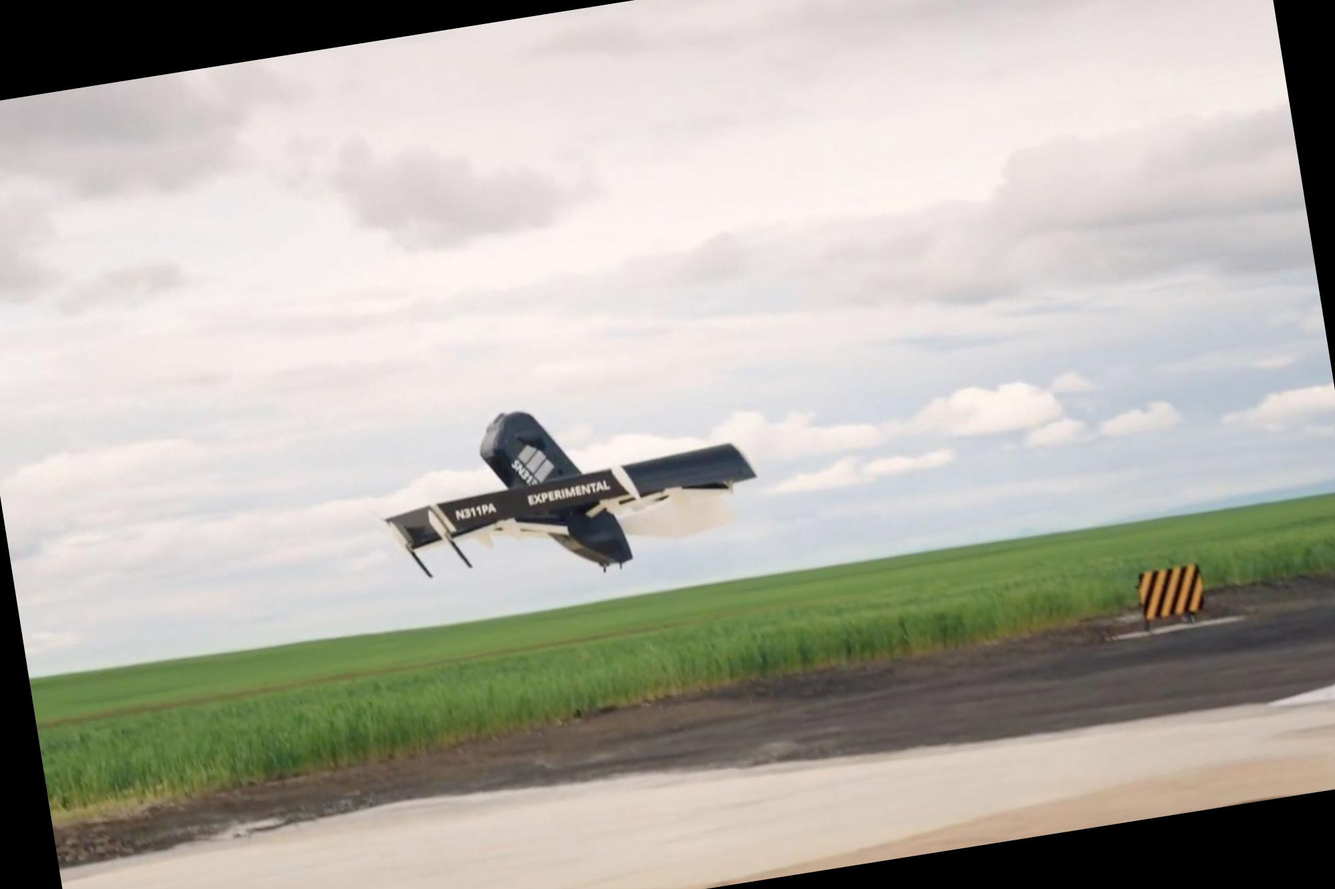drone: (363, 354, 785, 630)
